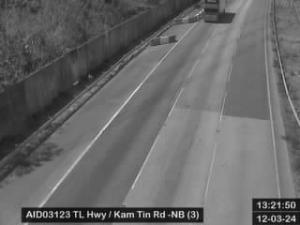bus: (203, 0, 225, 22)
